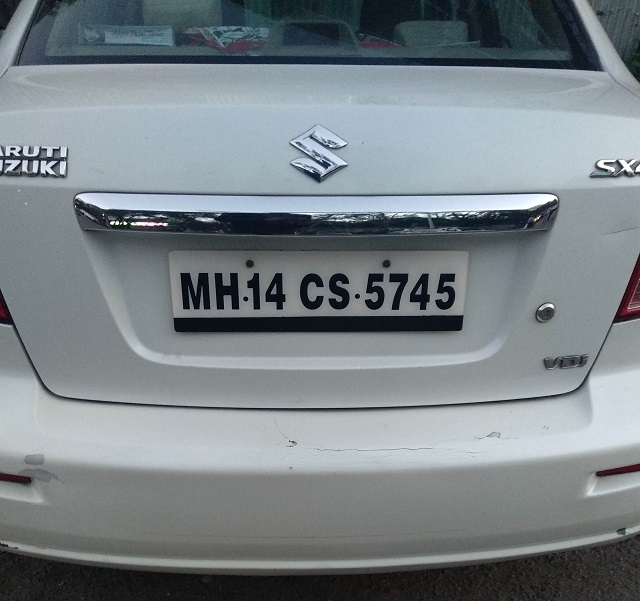licenseplate: (165, 248, 475, 339)
